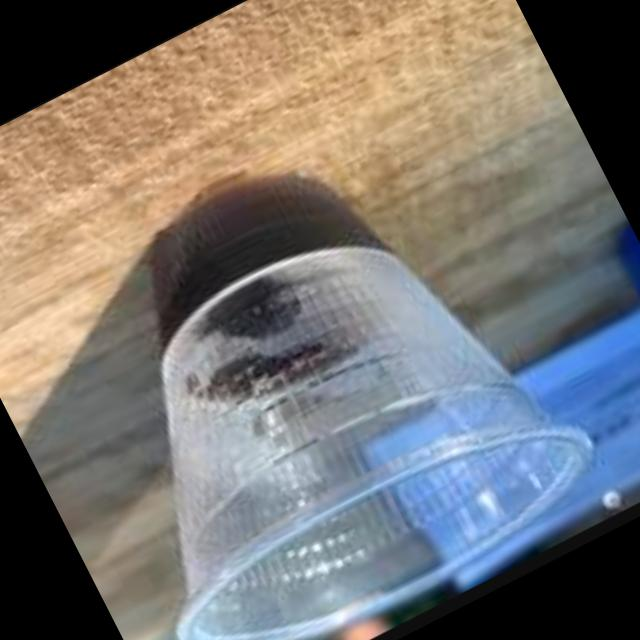GelasPlastik: (3, 92, 621, 640)
